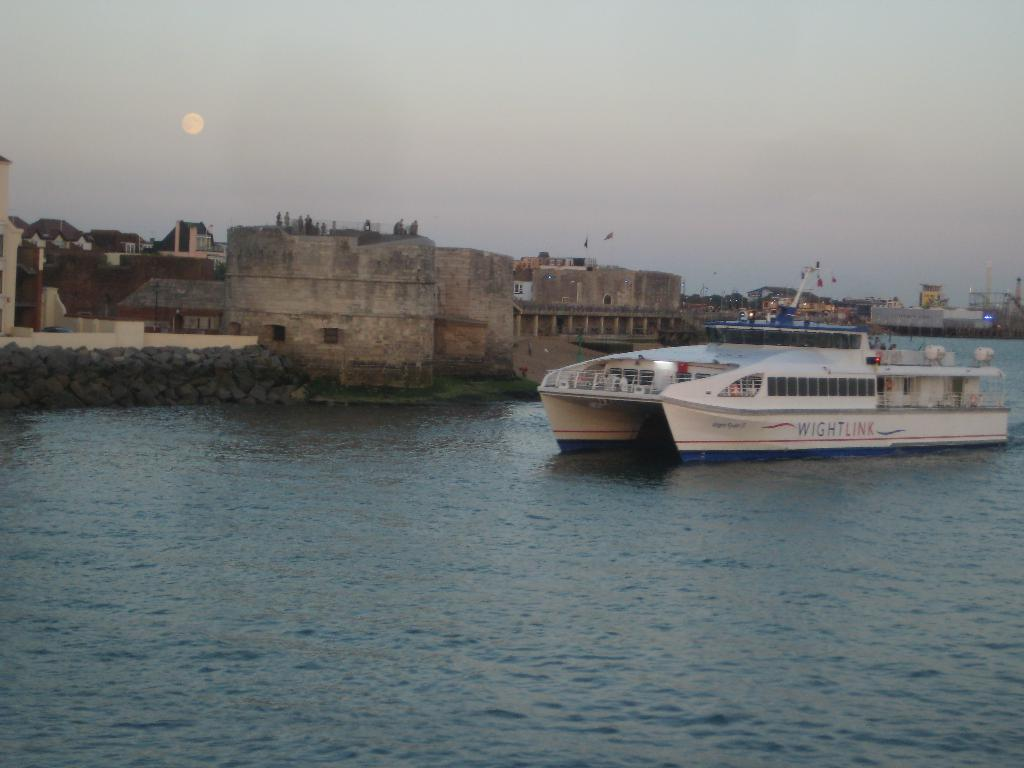PassengerShip: (534, 272, 1002, 460)
